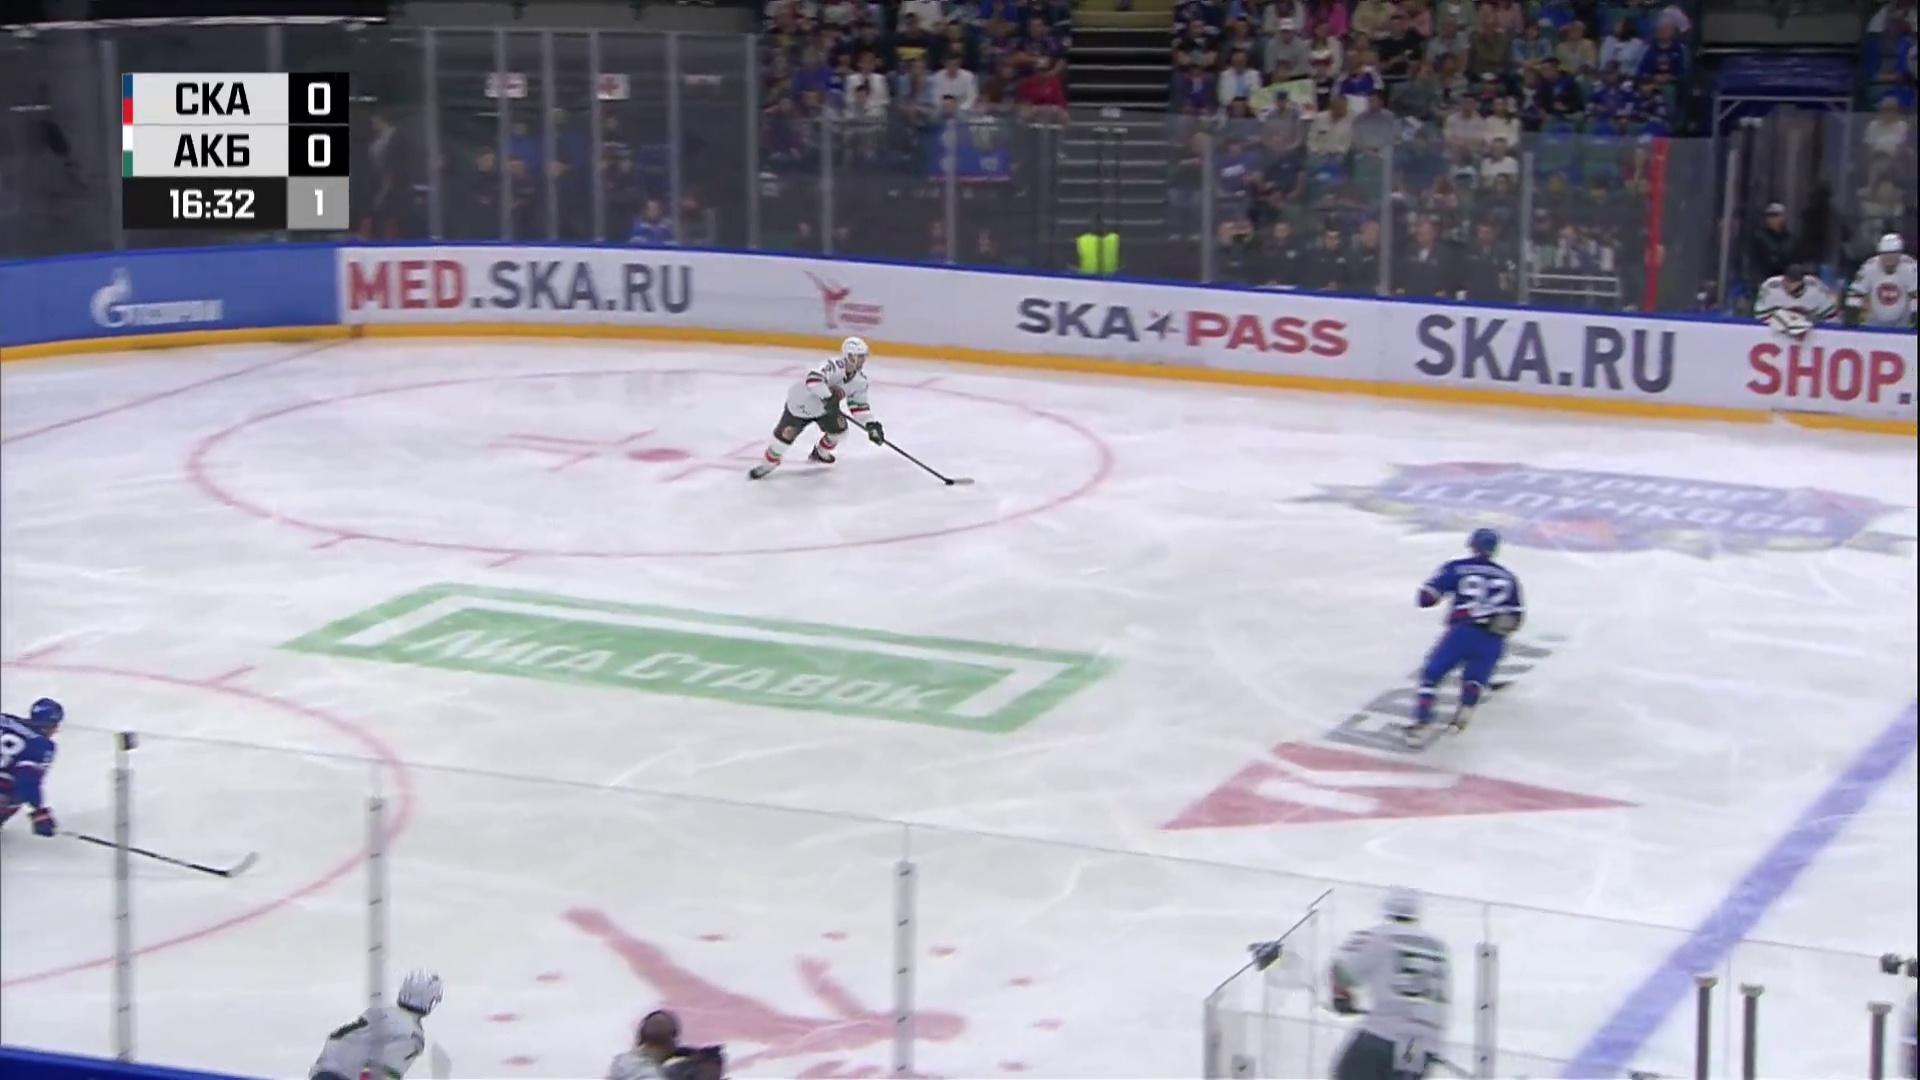ball: (944, 479, 955, 487)
